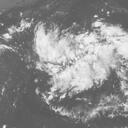cyclone: (40, 30, 99, 89)
